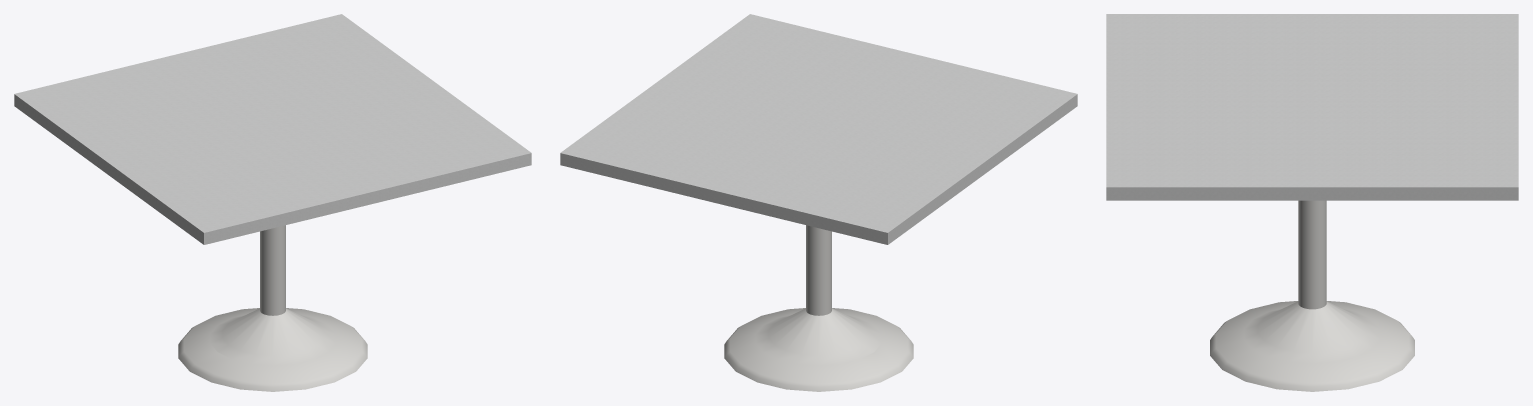
File: Table01.FBX
3 renders of one model, left to right at view 1: azimuth 30°, elevation 25°; view 2: azimuth 150°, elevation 25°; view 3: azimuth 270°, elevation 25°, orthographic. The views are drawn at different scales.
Visible parts, largest first — view 1: Table01; view 2: Table01; view 3: Table01.
Part boxes in pixels (bbox=[...]): Table01: bbox=[14, 14, 531, 391]; Table01: bbox=[560, 14, 1077, 391]; Table01: bbox=[1106, 14, 1518, 391].
Bounding box in the file's own units: 113 × 75 × 113.
